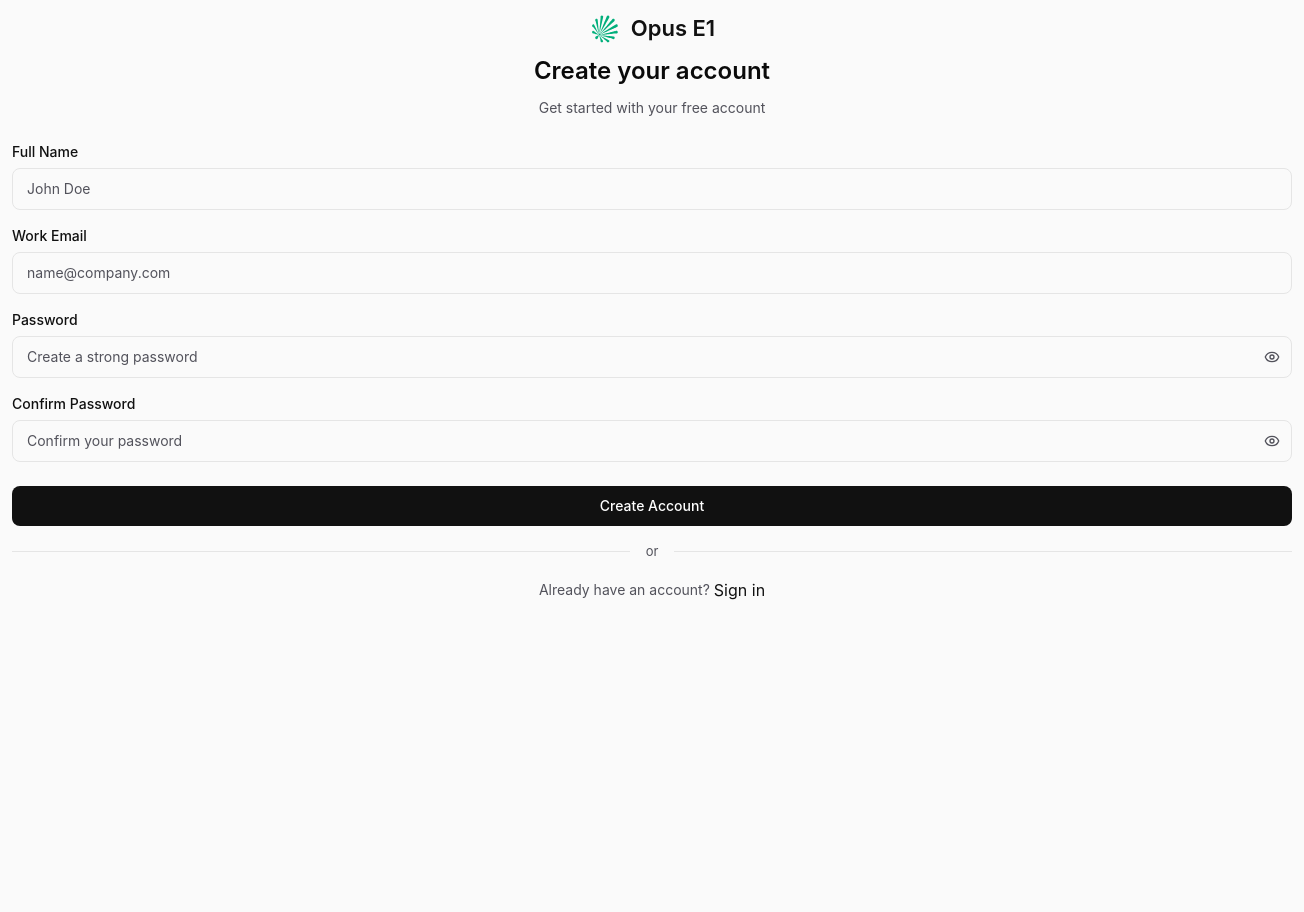
Test: SignupForm › shows validation errors on empty submit
Click the button "Create Account": click(652, 506) x1=12 y1=486 x2=1292 y2=526
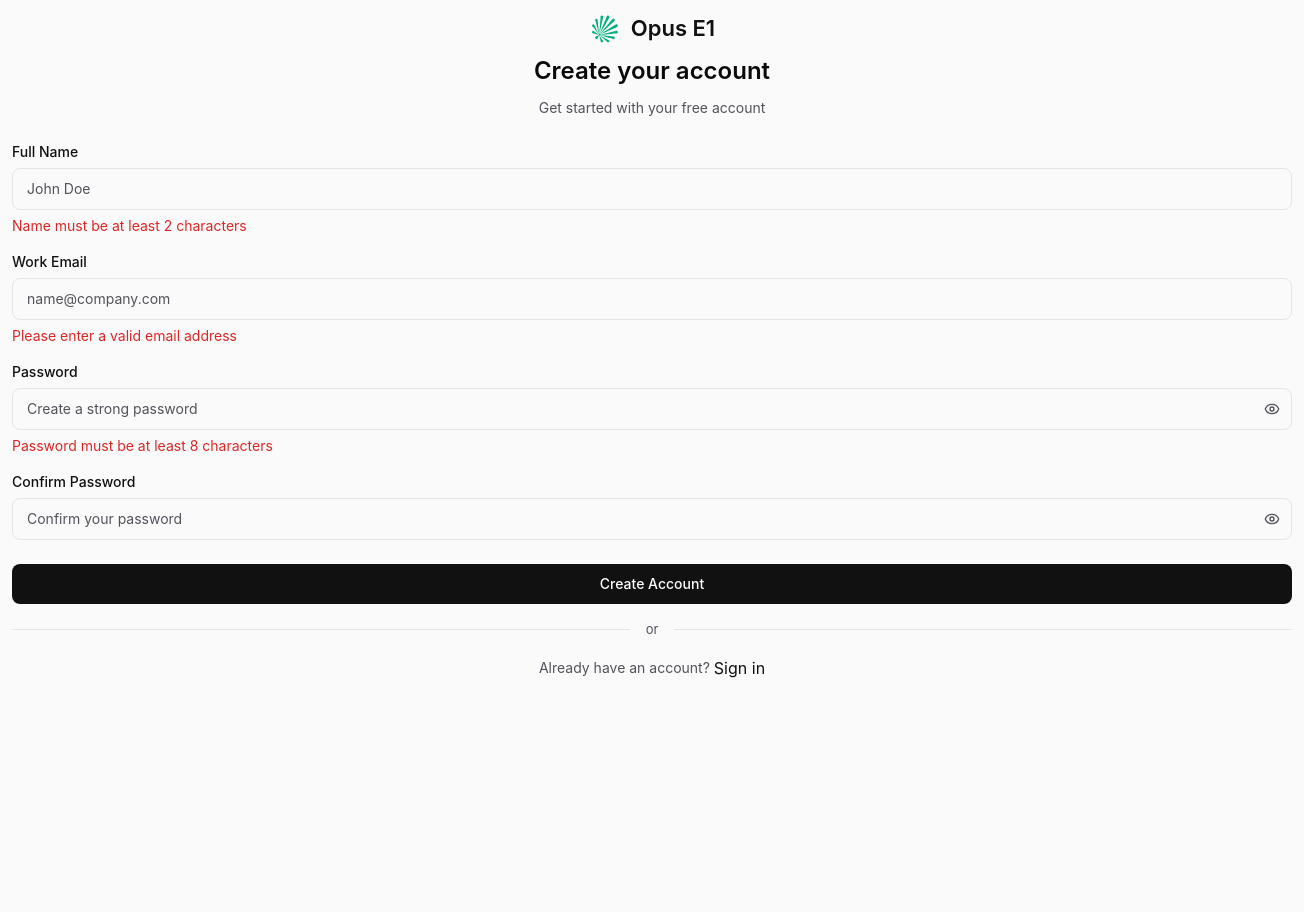
Expected: the text "Name must be at least 2 characters" is shown, x1=12 y1=217 x2=247 y2=234
